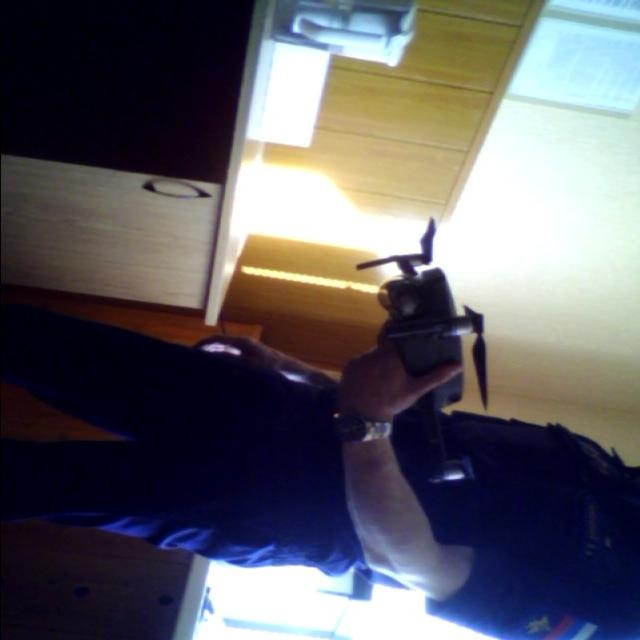drone: (356, 218, 492, 520)
